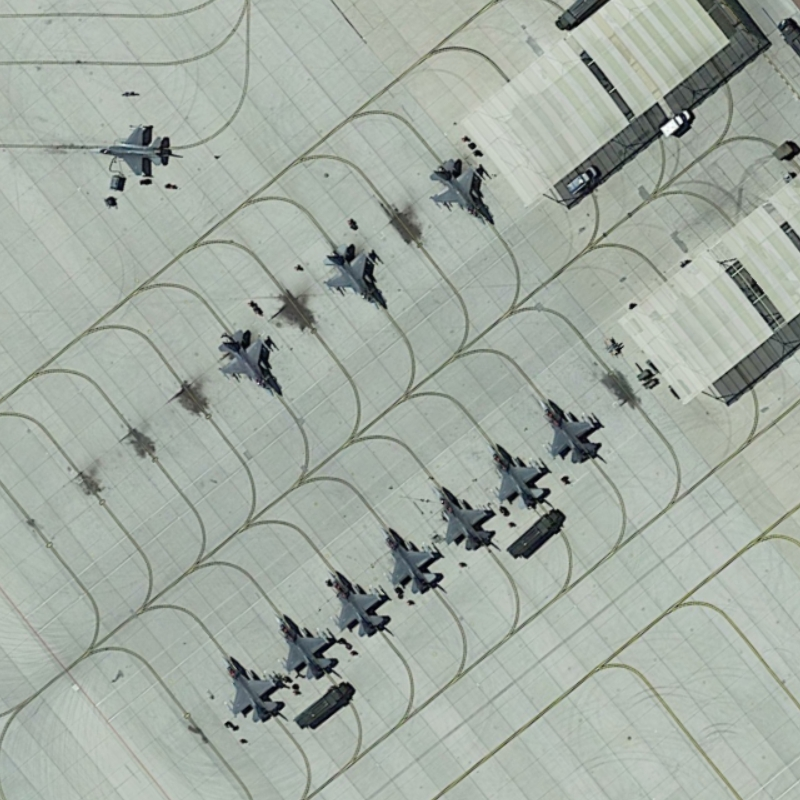A5: (426, 476, 502, 556), (320, 562, 393, 643), (376, 519, 449, 599), (213, 324, 289, 400), (87, 118, 176, 182), (272, 605, 343, 685), (486, 432, 553, 515), (538, 391, 609, 468), (318, 240, 390, 313), (217, 650, 287, 725), (425, 155, 493, 231)
